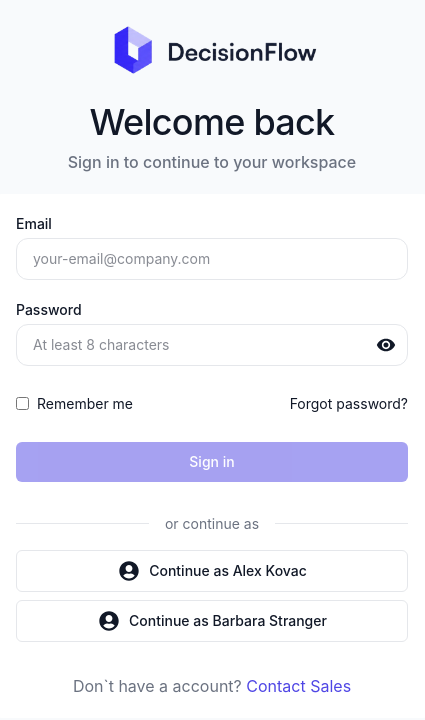
Test: Login validation › should show error when password is too short
Type "Ab1" into the password field with placeholder "At least 8 characters" at [212, 345], box [16, 324, 408, 366]
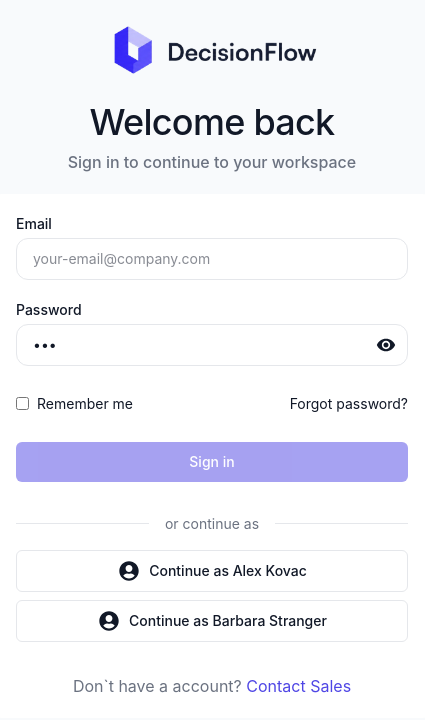
Click the button "Sign in" at [212, 462], box [16, 442, 408, 482]
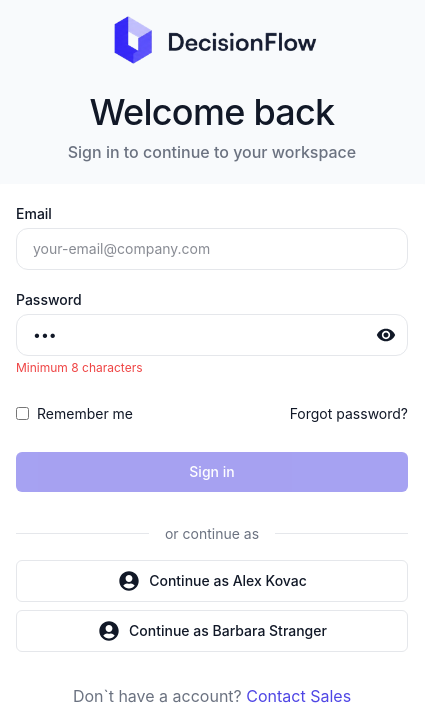
Now the text "Minimum 8 characters" is shown, box [16, 360, 142, 375]
